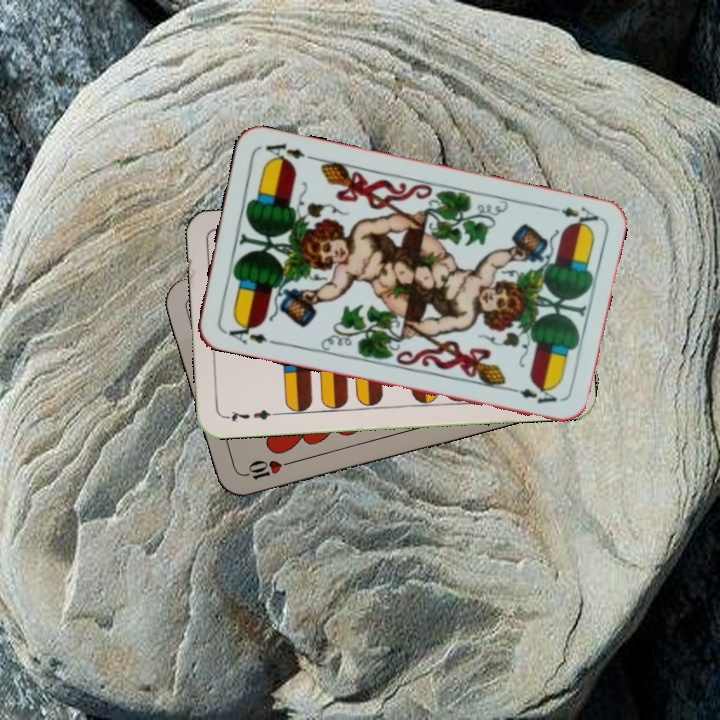E7: (221, 406, 280, 425)
EA: (544, 202, 601, 230), (221, 317, 270, 347)
H10: (237, 456, 295, 483)
